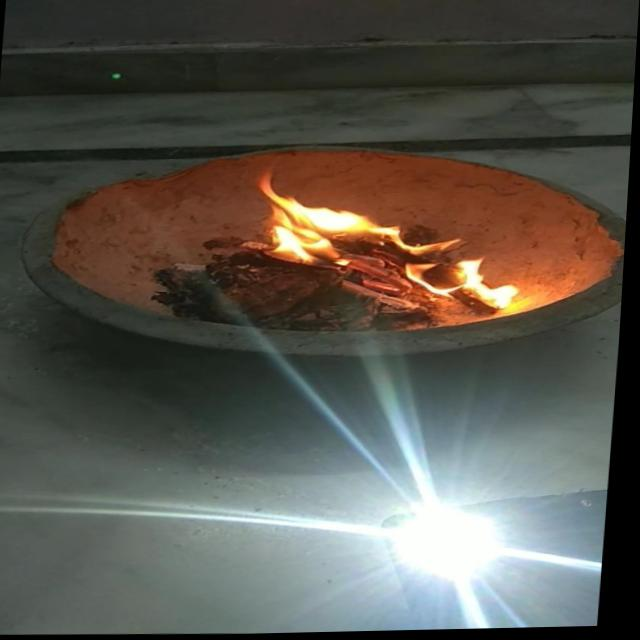fire: (242, 171, 415, 278), (434, 251, 532, 315)
